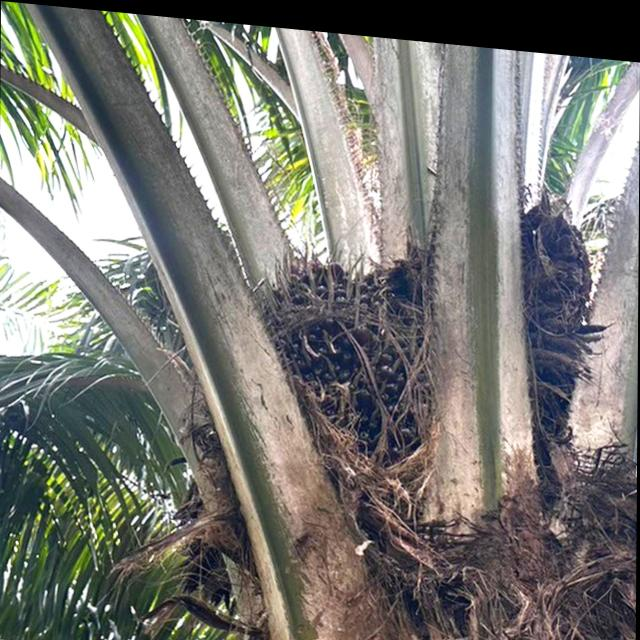ripe: (237, 214, 443, 473)
